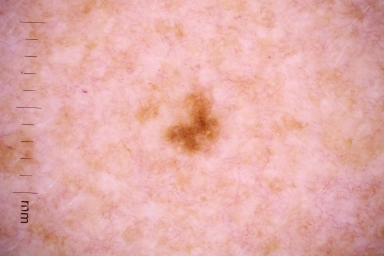nevus: (167, 93, 222, 157)
